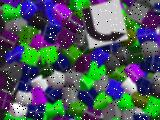Left: (81, 0, 129, 49)
